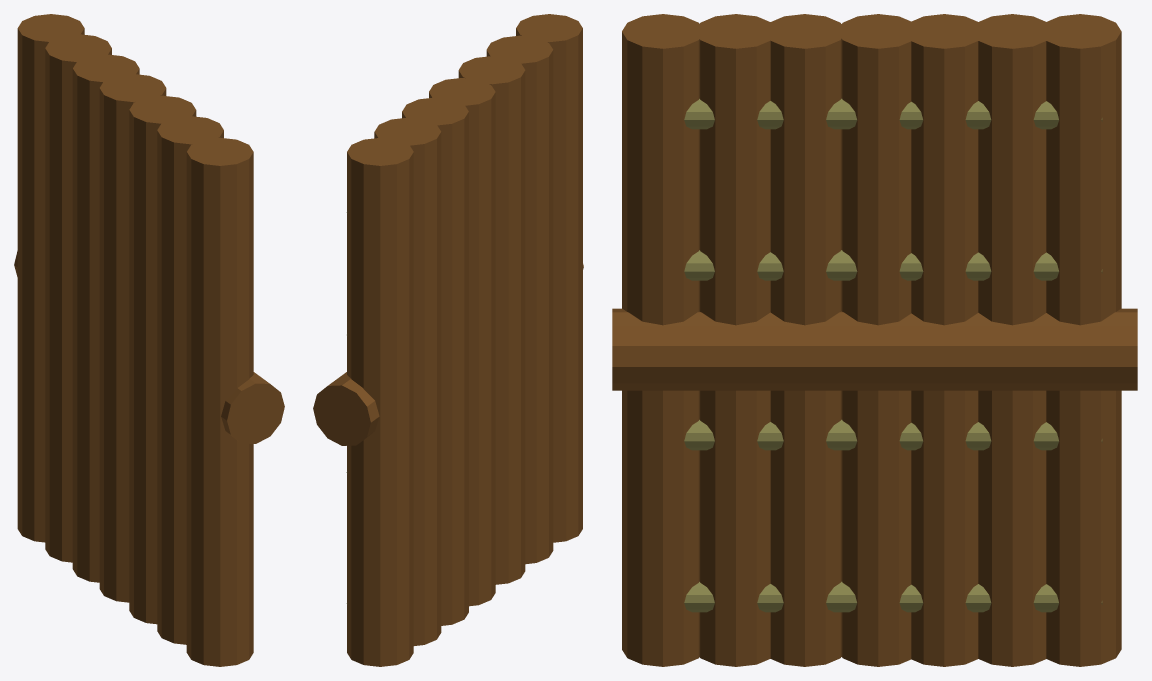
The model's file is gate.fbx.
The picture shows the model from 3 angles, left to right: view 1: azimuth 30°, elevation 25°; view 2: azimuth 150°, elevation 25°; view 3: azimuth 270°, elevation 25°; orthographic projection. The views are drawn at different scales.
Parts seen in each view (by area): view 1: Cylinder.007; view 2: Cylinder.007; view 3: Cylinder.007.
Part boxes in pixels (box(x1,y1,x2,y2)): Cylinder.007: box(14, 14, 284, 666); Cylinder.007: box(313, 14, 583, 666); Cylinder.007: box(612, 14, 1137, 666).
Bounding box in the file's own units: 44.21 × 290 × 223.
